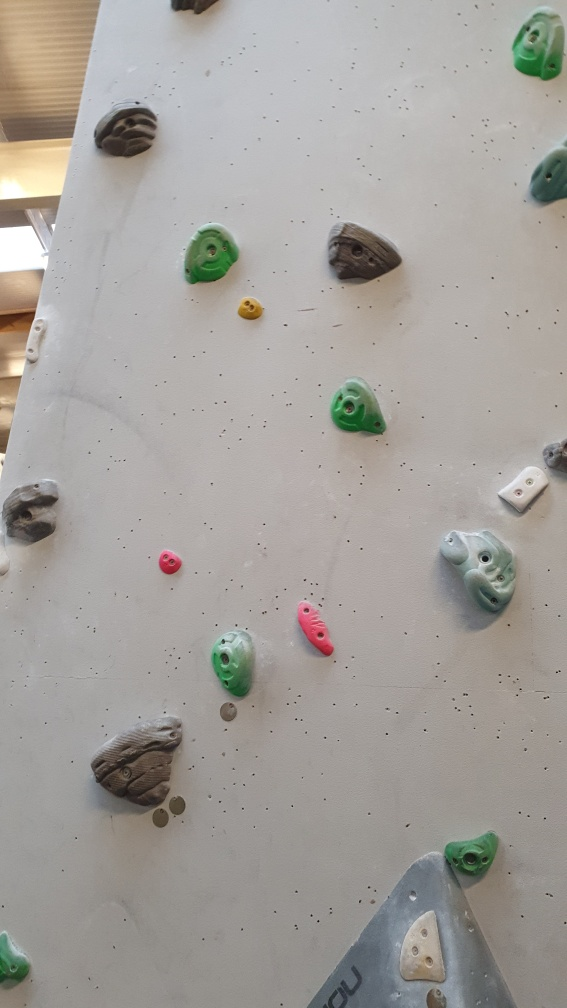Crimp: (298, 595, 333, 656), (22, 314, 47, 365)
Hand Start: (420, 985, 449, 1007), (149, 805, 172, 829), (166, 791, 187, 816), (220, 702, 239, 723)
Jug: (89, 707, 181, 804), (441, 528, 520, 615), (324, 219, 403, 290), (507, 5, 567, 82), (328, 371, 389, 441), (90, 97, 161, 155), (1, 479, 63, 542), (205, 628, 258, 700), (180, 223, 239, 286)
Pinch: (235, 291, 262, 323), (156, 554, 183, 578)
